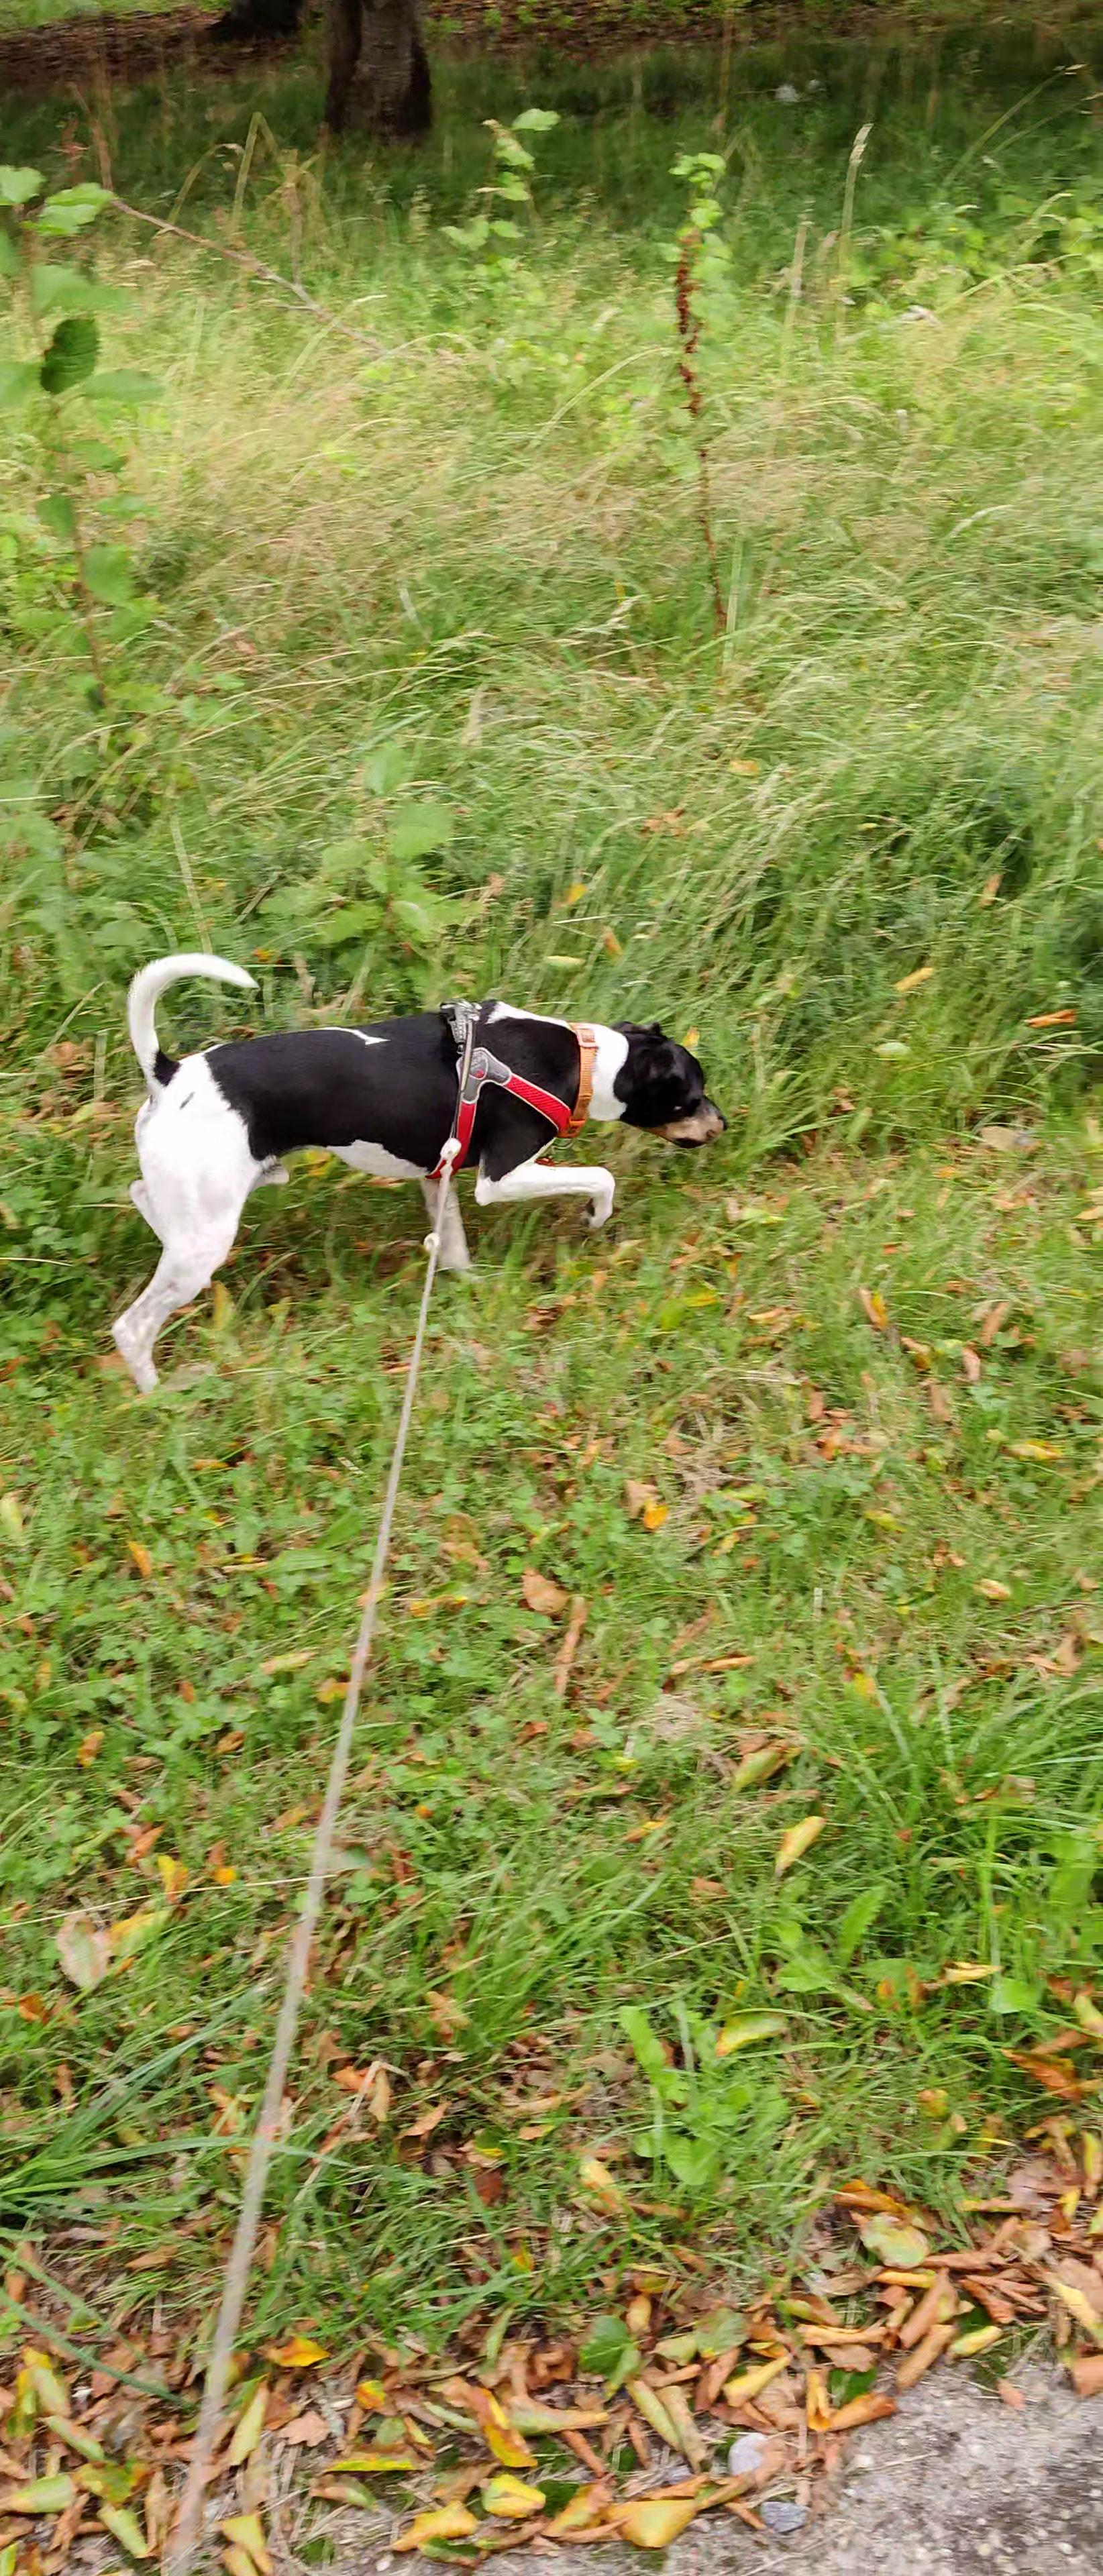Dog: (102, 948, 733, 1401)
